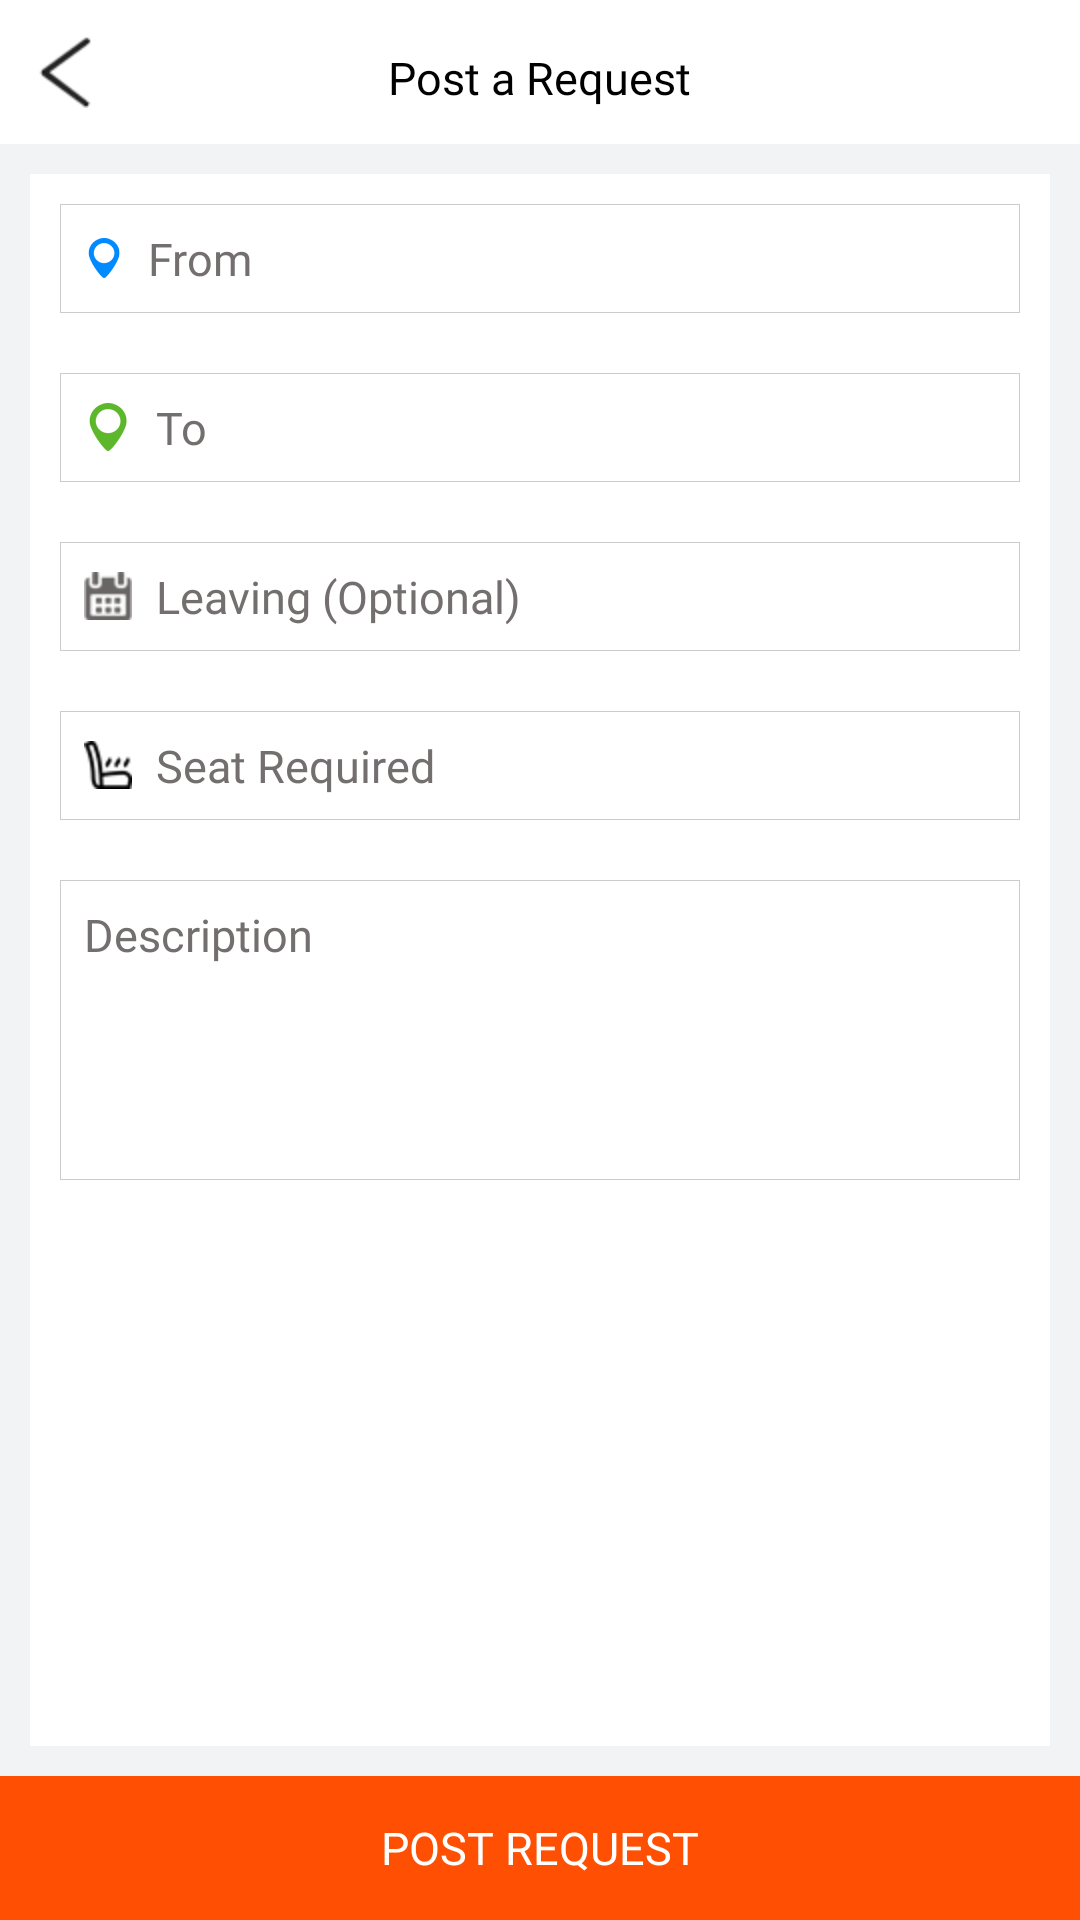

Icon bounding boxes for this 1080x1920 phone screenshot, format bbox=(x1, y1, x2, y2):
back: bbox=(40, 37, 91, 108)
